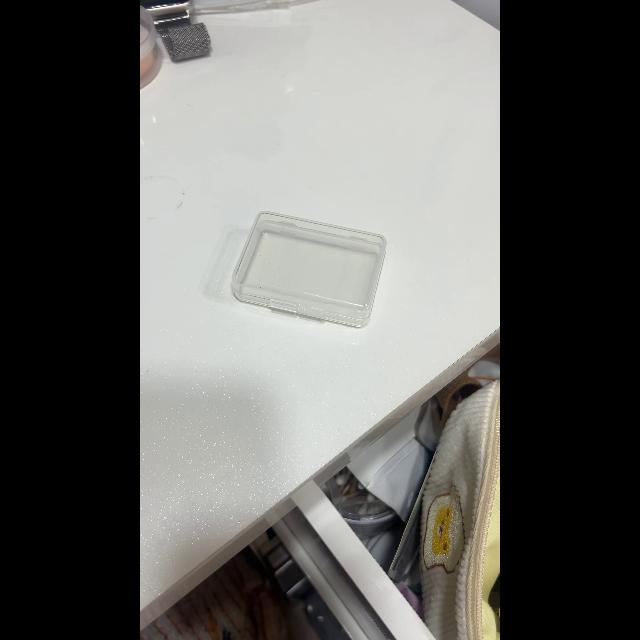clean: (236, 218, 388, 324)
